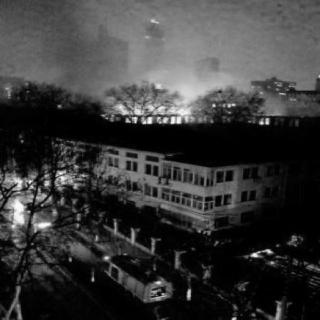Fire: (88, 74, 280, 124)
